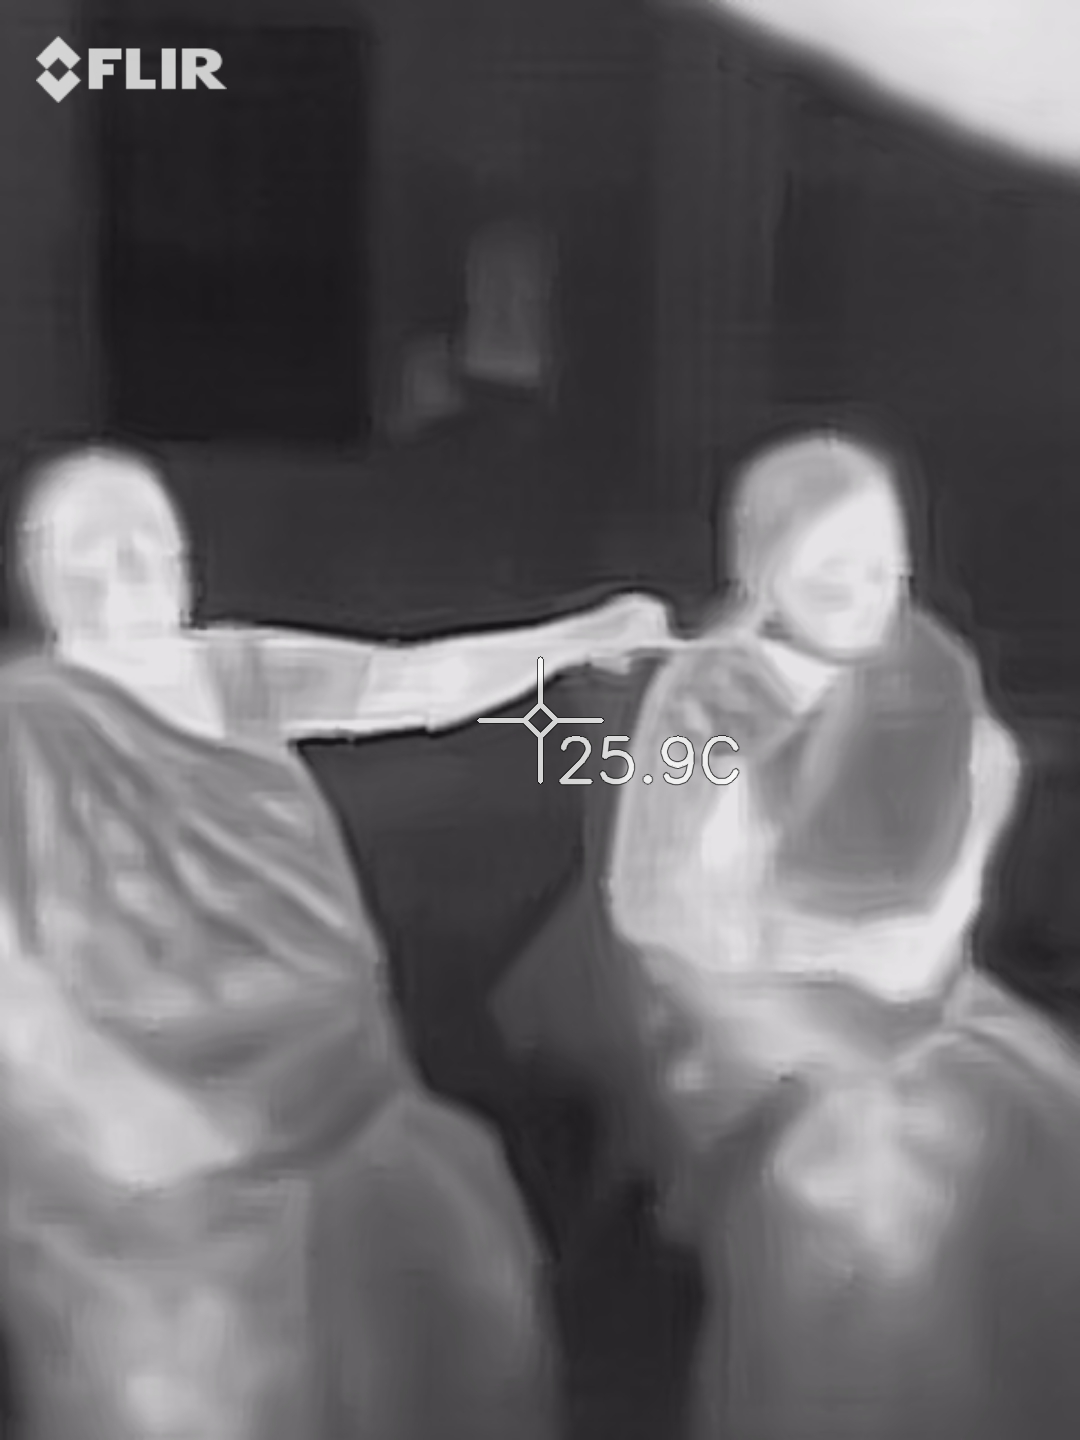head: (711, 441, 951, 688)
